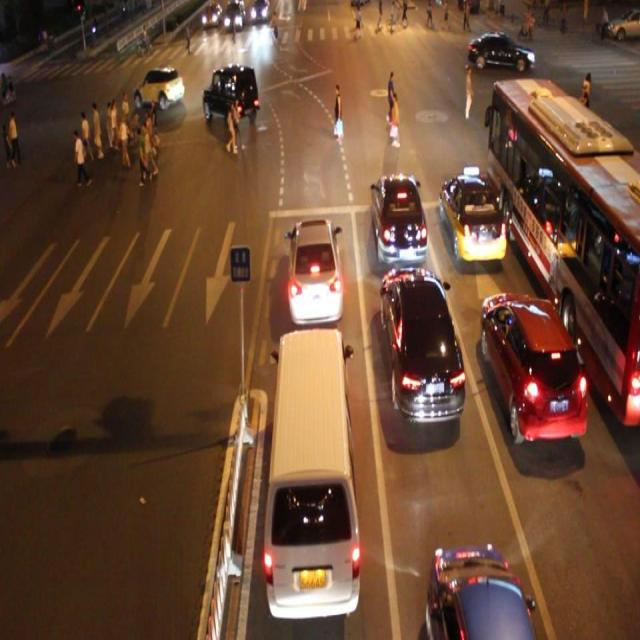car: (481, 290, 584, 441), (380, 262, 467, 415), (424, 543, 535, 640), (441, 170, 508, 260), (286, 220, 343, 324), (372, 167, 429, 264), (201, 65, 258, 122), (467, 30, 534, 72), (132, 65, 184, 110)
truck: (262, 328, 360, 613)
van: (491, 71, 640, 418)
